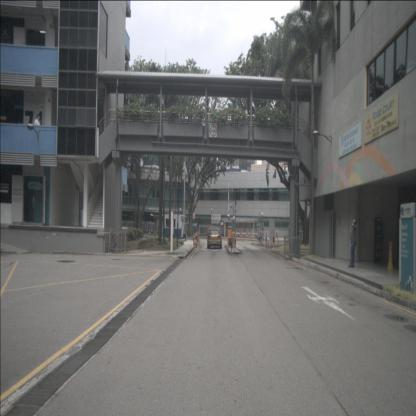cone: (387, 240, 394, 270), (268, 238, 271, 252), (193, 237, 196, 246), (196, 234, 199, 243)
